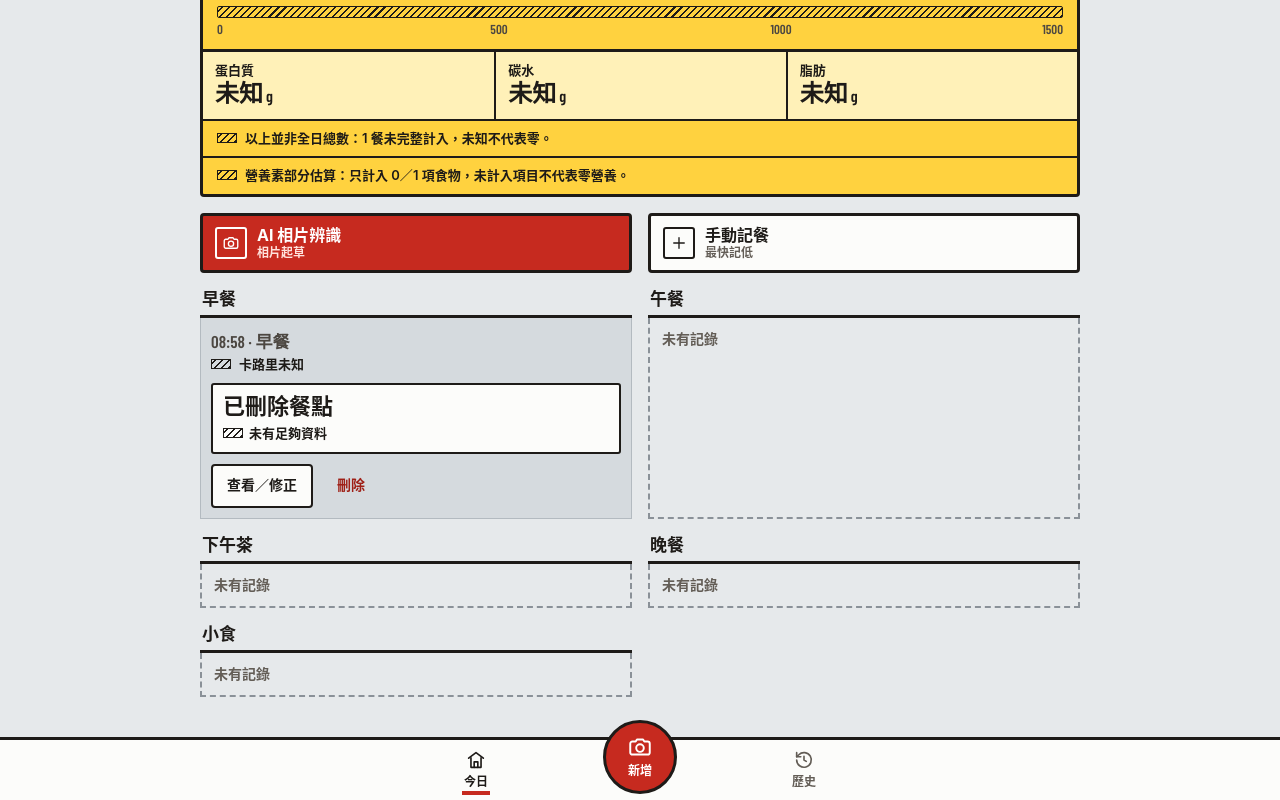
Test case: does not claim an acknowledged delete is pending when another meal has a blocked save
This screenshot has width=1280, height=800.
(page scrolled)
Click the button "刪除": (351, 486) [321,464,381,508]
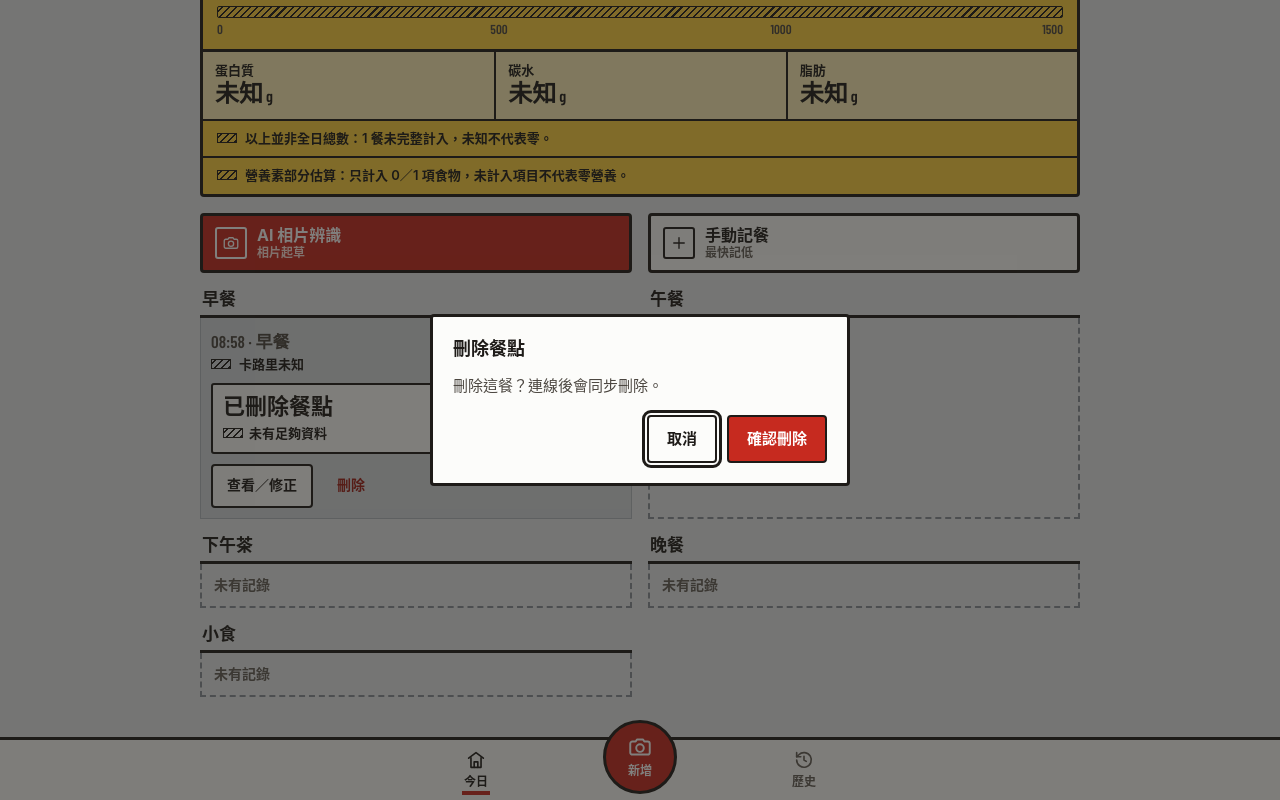
Click the button "確認刪除": (777, 439) [727,415,827,463]
(page scrolled)
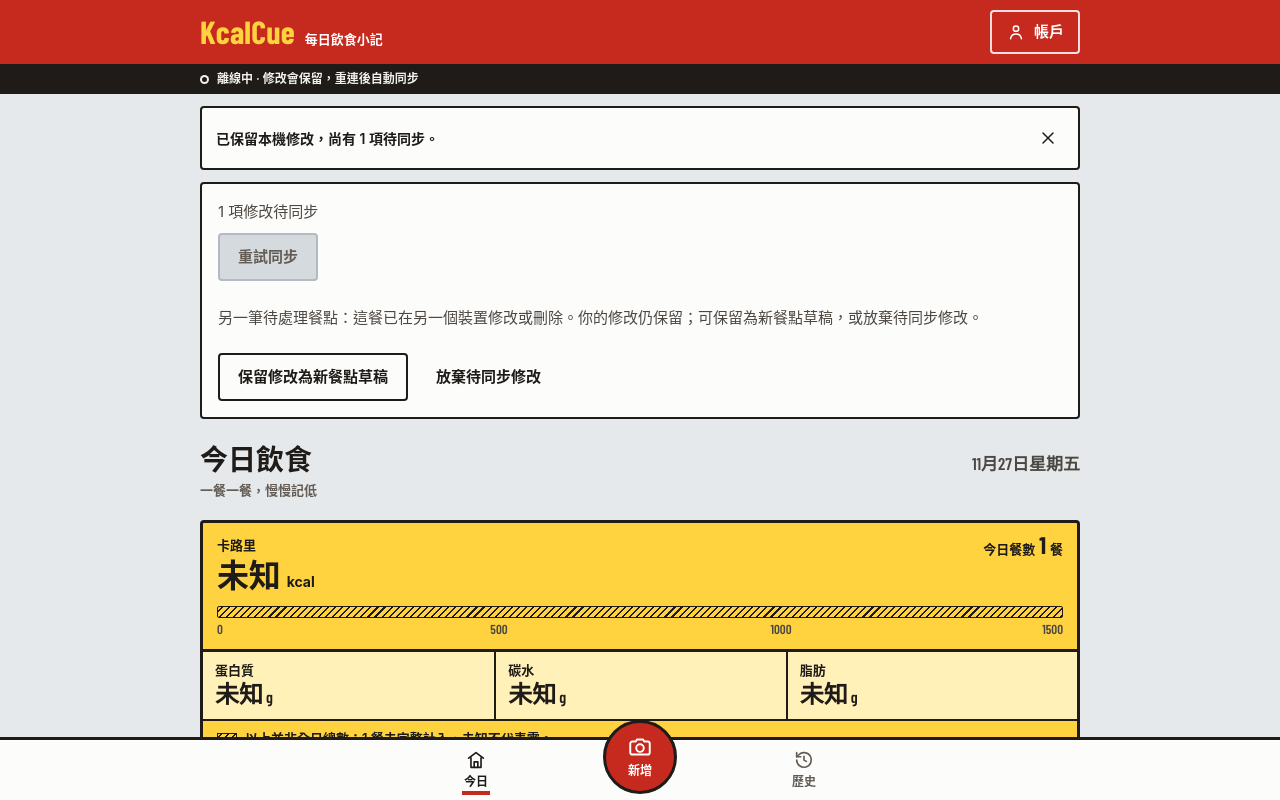
Expected: the text "已保留本機修改，尚有 1 項待同步。" is shown, [216,130,439,146]
Expected: the text "1 項修改待同步" is shown, [218,200,318,223]
Expected: the button "保留修改為新餐點草稿" is shown, [218,352,408,400]
